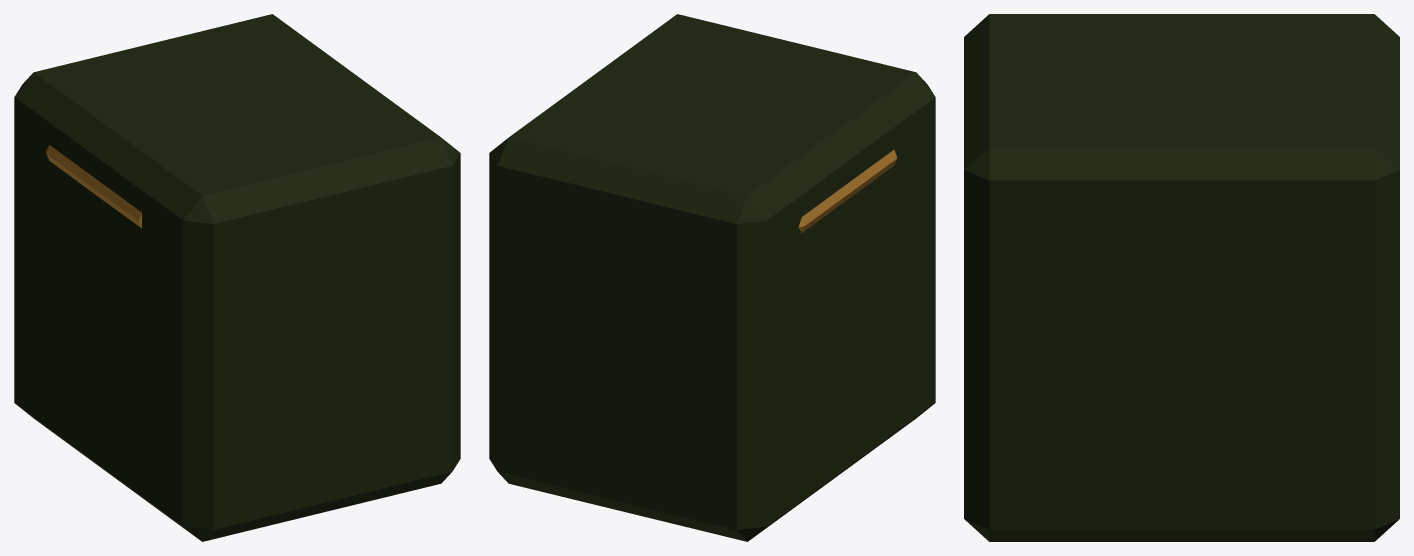
Rendered from Gun127__FeedBox.obj.
The picture shows the model from 3 angles, left to right: view 1: azimuth 30°, elevation 25°; view 2: azimuth 150°, elevation 25°; view 3: azimuth 270°, elevation 25°; orthographic projection. The views are drawn at different scales.
Visible parts, largest first — view 1: Detachable_feed_box, Feed_link_cartridge; view 2: Detachable_feed_box, Feed_link_cartridge; view 3: Detachable_feed_box.
Boxes of the visible parts, <box> form: Detachable_feed_box: <box>14,14,460,541</box>; Feed_link_cartridge: <box>46,145,141,228</box>; Detachable_feed_box: <box>489,14,935,541</box>; Feed_link_cartridge: <box>798,149,897,232</box>; Detachable_feed_box: <box>964,14,1399,541</box>.
Bounding box in the file's own units: 0.263 × 0.31 × 0.31.
